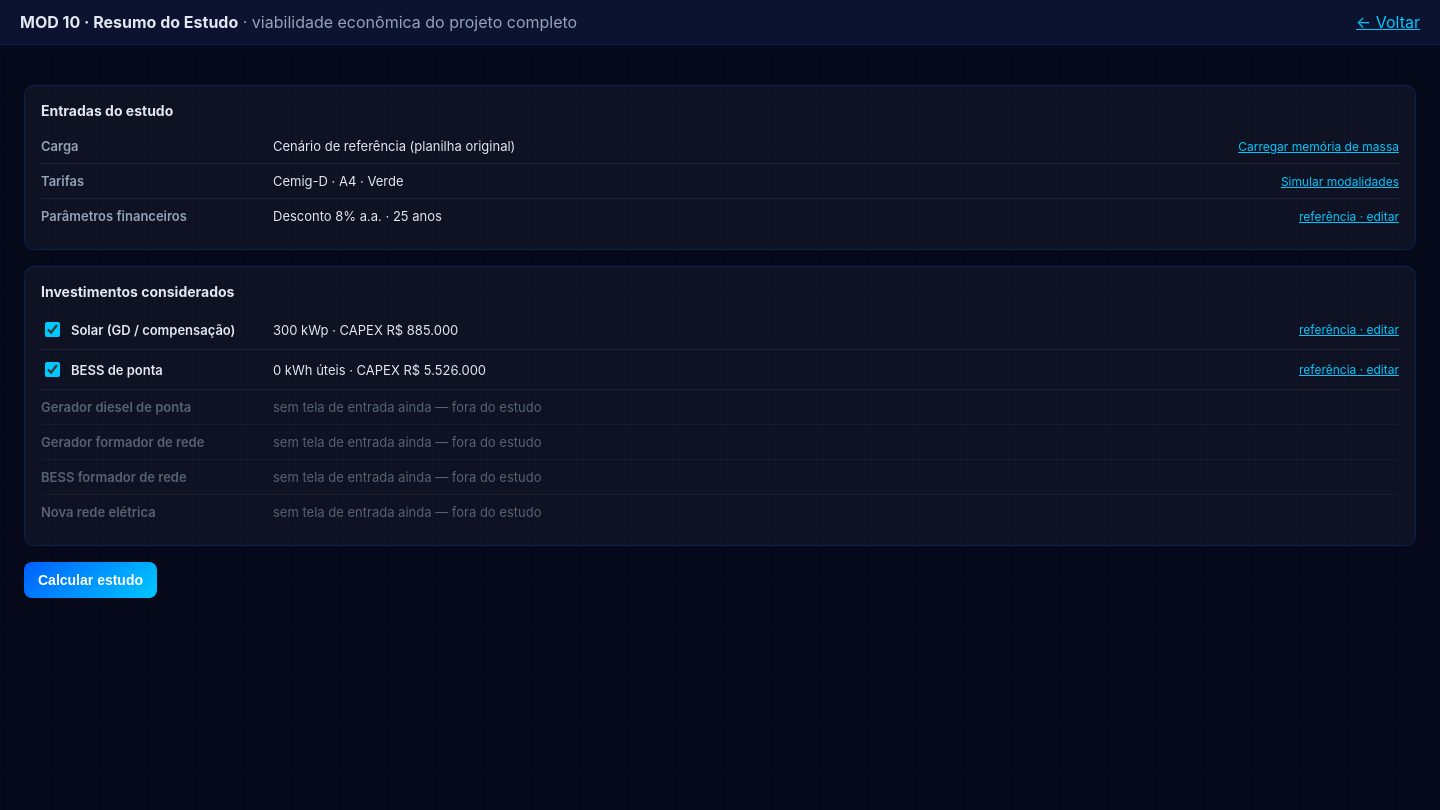
Test: SummaryPage › mostra os erros quando o servidor rejeita os dados
What coordinates should you click on to do the following:
click the button "Calcular estudo"
I would click on:
 (90, 580)
Its box is [24,562,157,598].
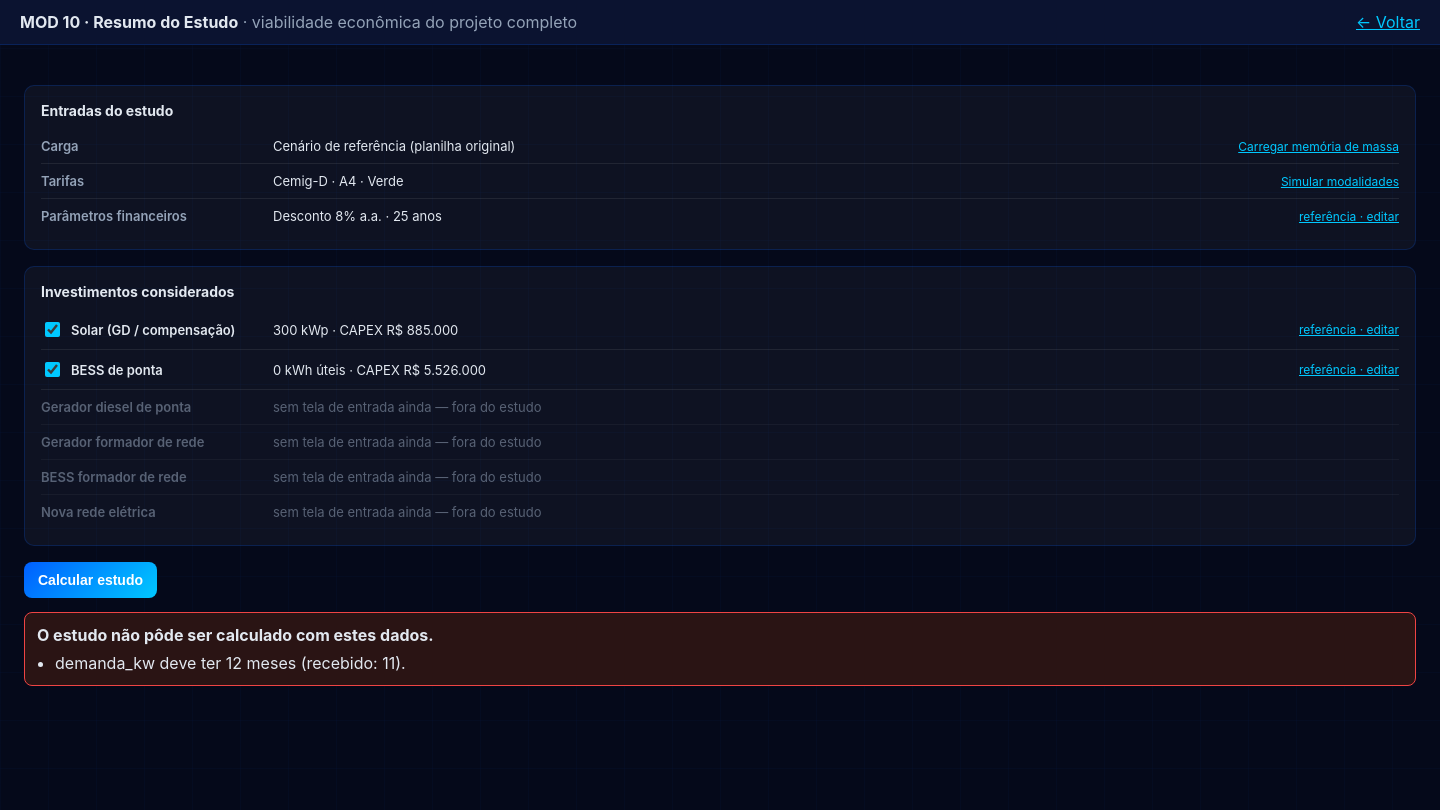
Expected: the text "O estudo não pôde ser calculado com estes dados." is shown, [37,625,434,645]
Expected: the list item "demanda_kw deve ter 12 meses (recebido: 11)." is shown, [55,653,406,673]
